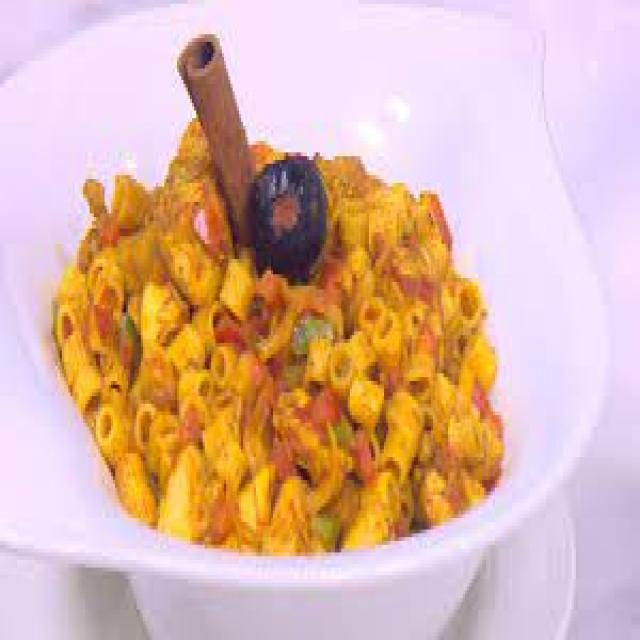Pasta: (64, 61, 538, 548)
